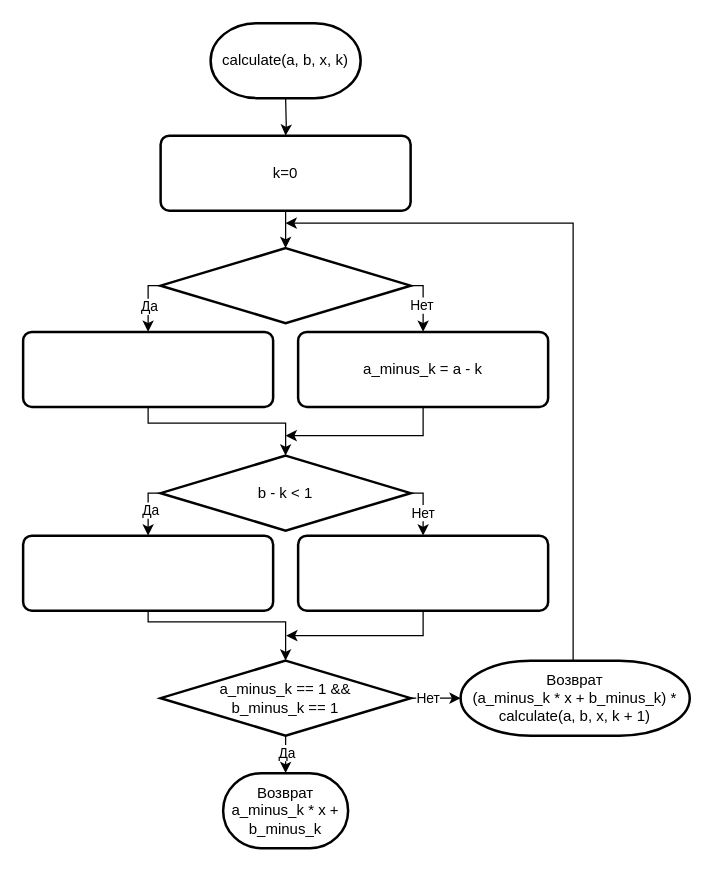
Some shapes in this 713 by 870 pixel diagram are drawn without their labels. Each missing label, with the box of its shape:
a - k < 1: (159, 246, 411, 324)
a_minus_k = 1: (21, 330, 274, 408)
b_minus_k = 1: (21, 534, 274, 611)
b_minus_k = b - k: (296, 534, 549, 611)
